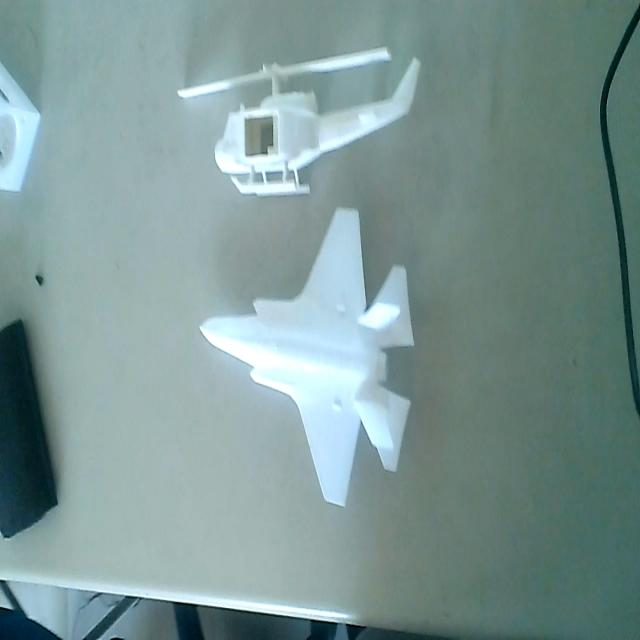Helicopter: (175, 44, 421, 205)
Jet: (198, 208, 414, 513)
